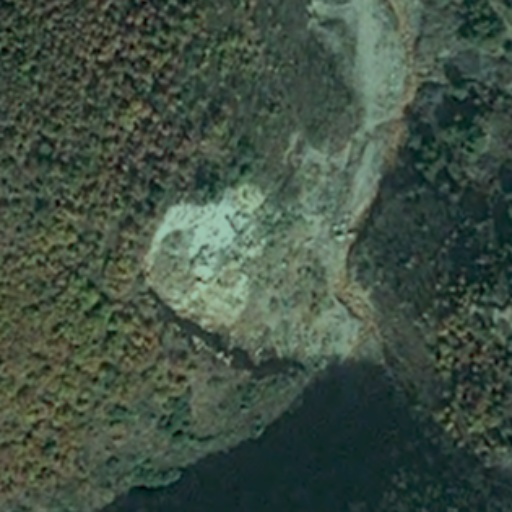landslide: (142, 179, 262, 326)
